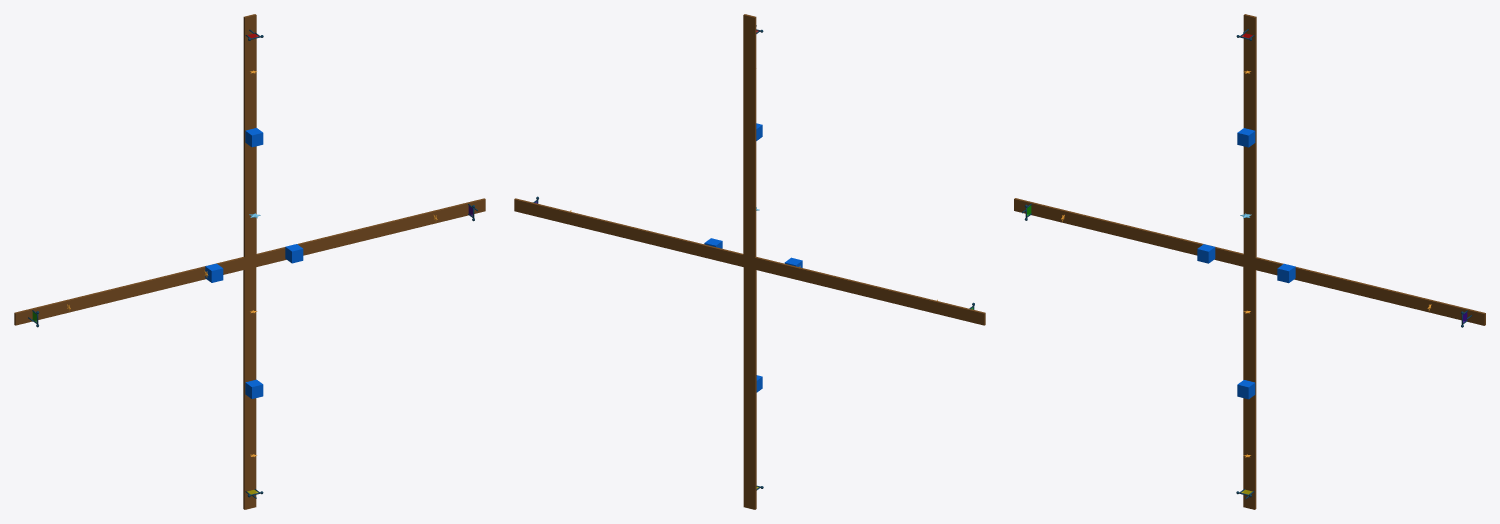
The model's file is demo.glb.
3 renders of one model, left to right at view 1: azimuth 30°, elevation 25°; view 2: azimuth 150°, elevation 25°; view 3: azimuth 330°, elevation 25°, orthographic.
Visible parts, largest first — view 1: Object.005, Object.014, Object.007, Object.021; view 2: Object.005, Object.014, Object.007, Object.021; view 3: Object.005, Object.014, Object.021, Object.007.
Boxes of the visible parts, bbox=[...] form: Object.005: bbox=[243, 14, 256, 260]; Object.014: bbox=[243, 255, 256, 509]; Object.007: bbox=[14, 255, 255, 325]; Object.021: bbox=[246, 198, 485, 269]; Object.005: bbox=[743, 14, 756, 264]; Object.014: bbox=[743, 255, 756, 509]; Object.007: bbox=[744, 255, 985, 325]; Object.021: bbox=[514, 198, 753, 269]; Object.005: bbox=[1243, 14, 1256, 269]; Object.014: bbox=[1243, 255, 1256, 509]; Object.021: bbox=[1244, 255, 1485, 325]; Object.007: bbox=[1014, 198, 1254, 269].
Size of what is drawn, in the model's own units: 41.06 by 41.06 by 1.23.
